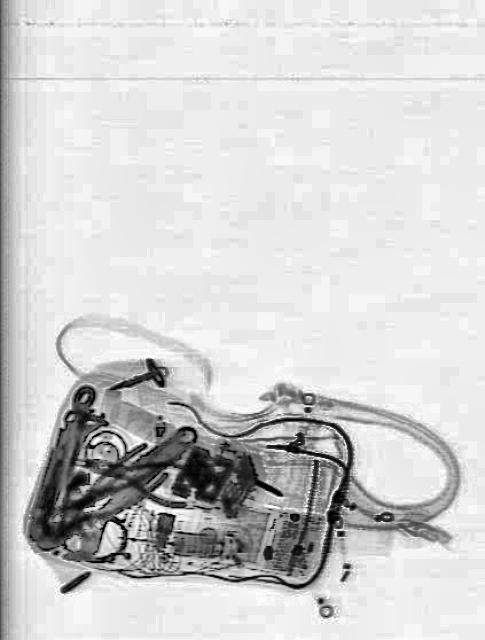Wrench: (50, 411, 206, 571)
